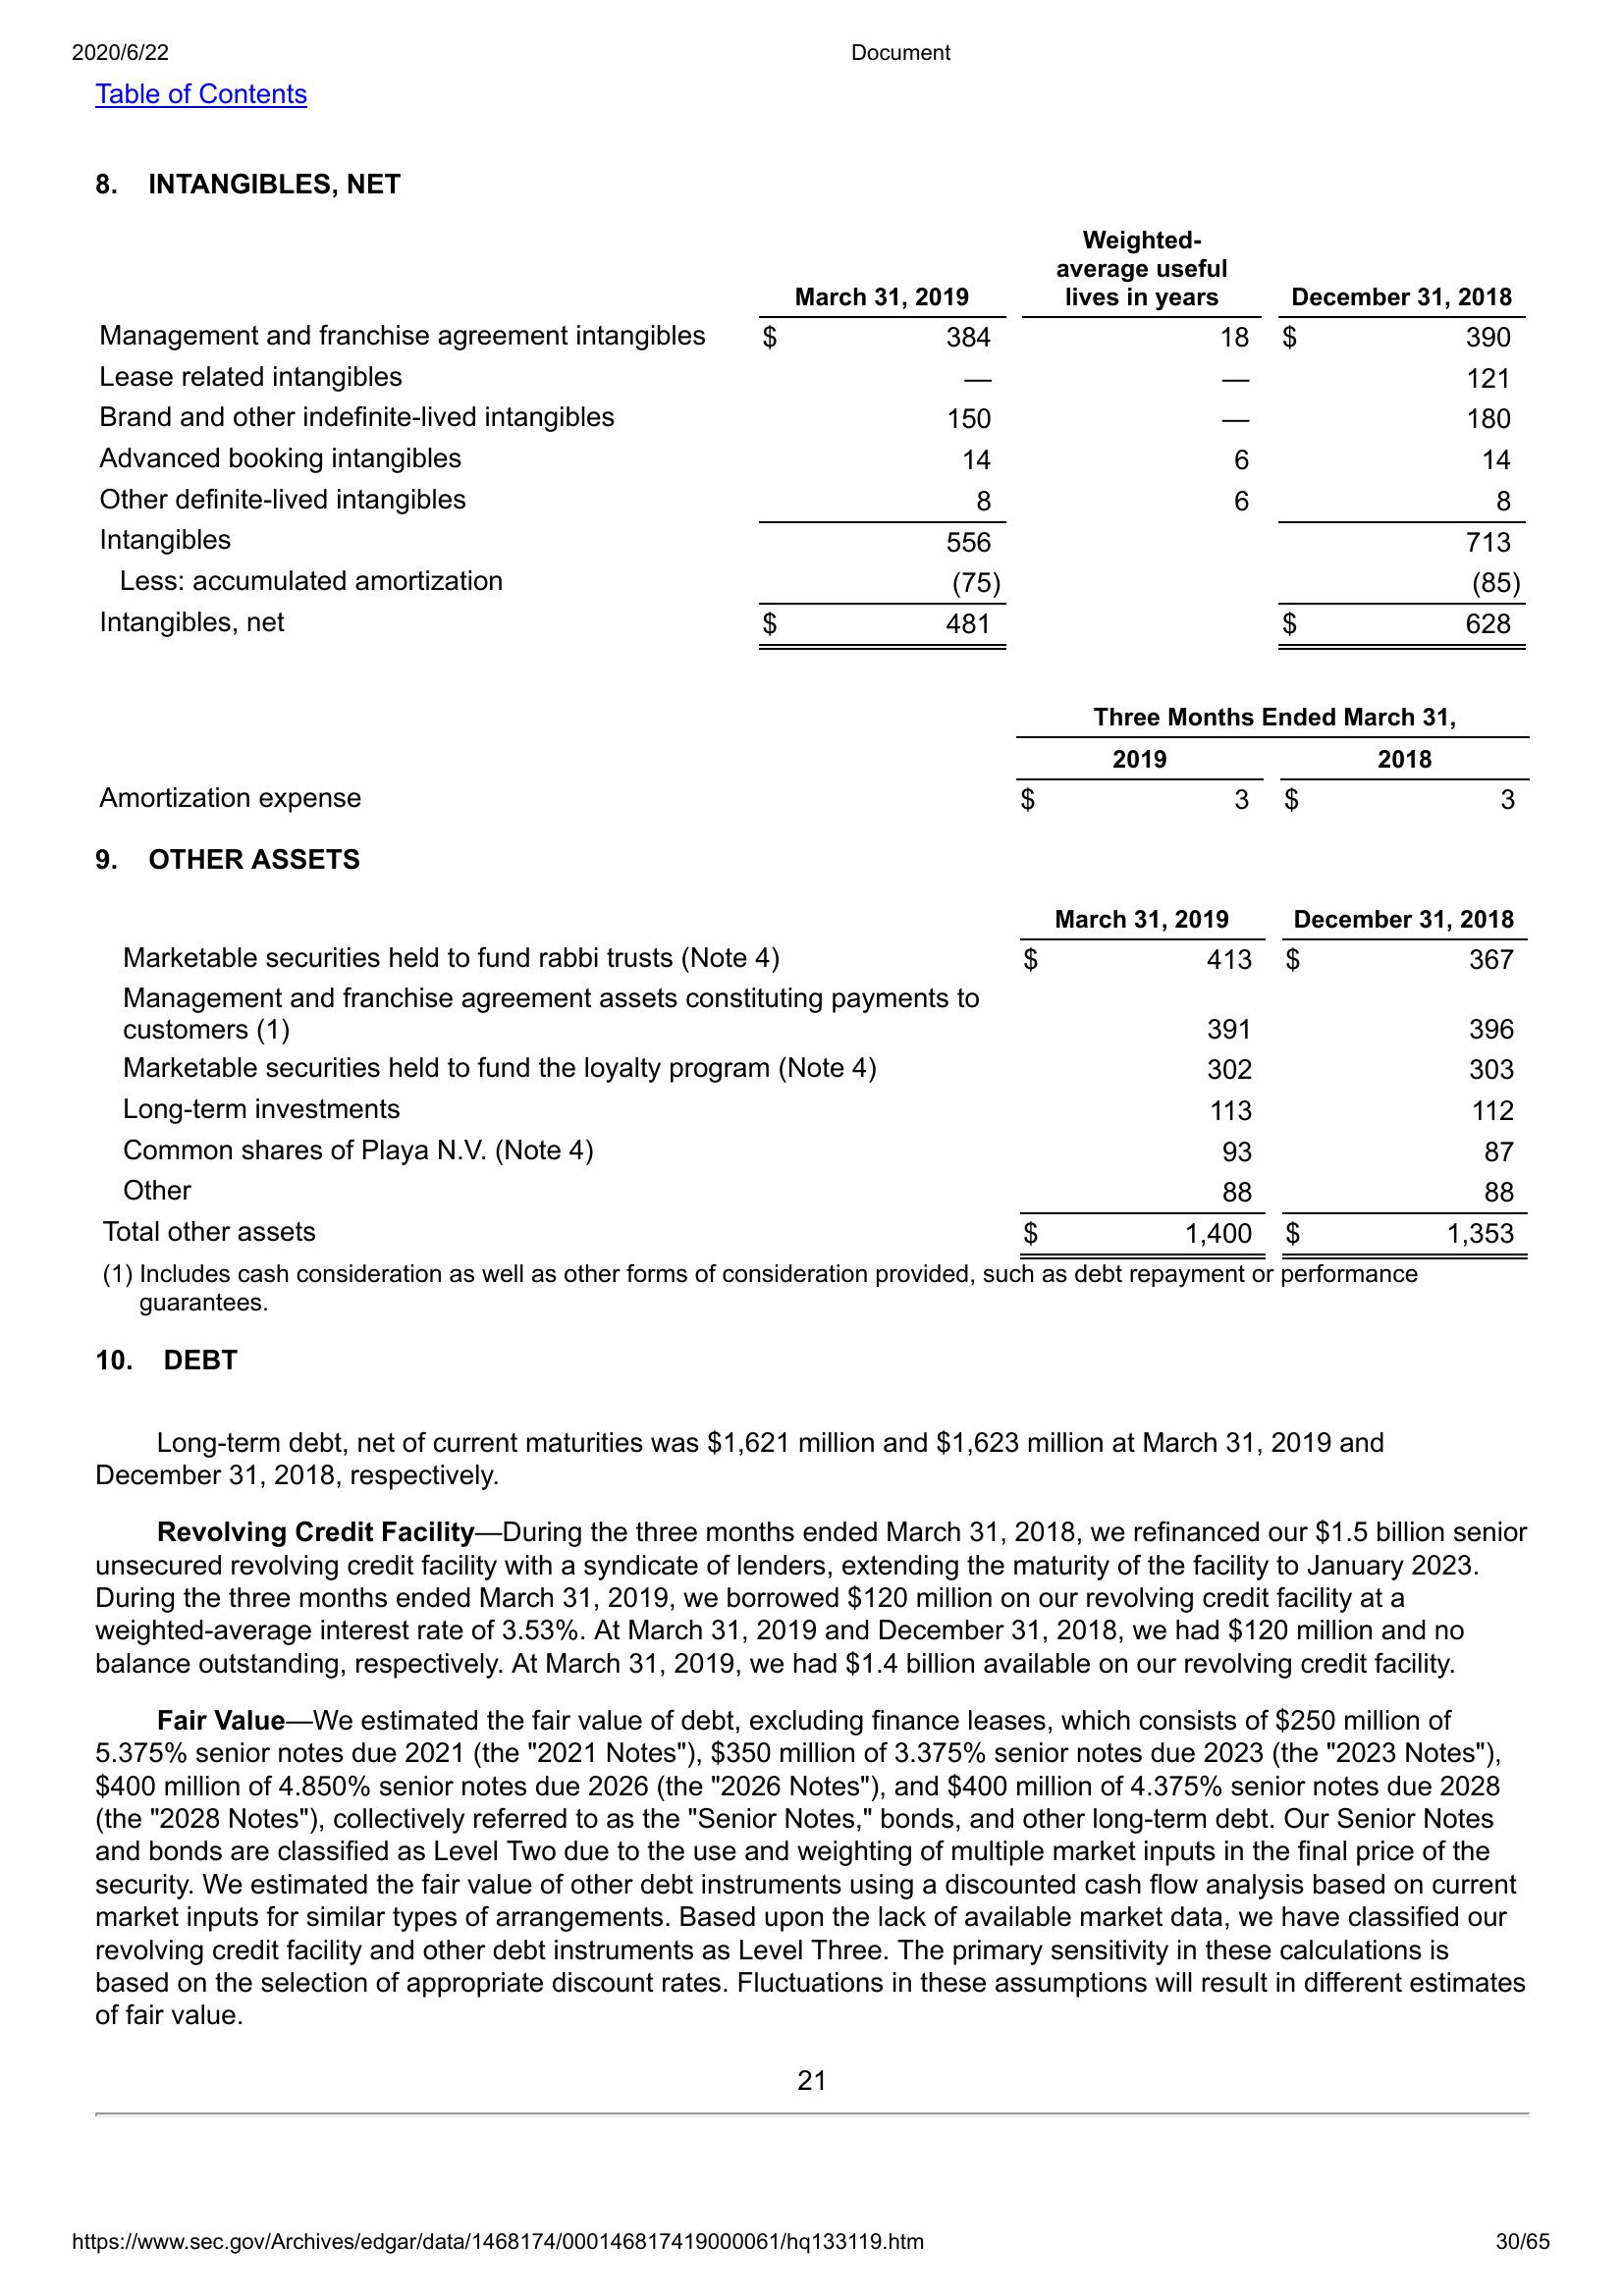table: (91, 219, 1540, 657), (97, 897, 1535, 1260), (91, 693, 1533, 816)
